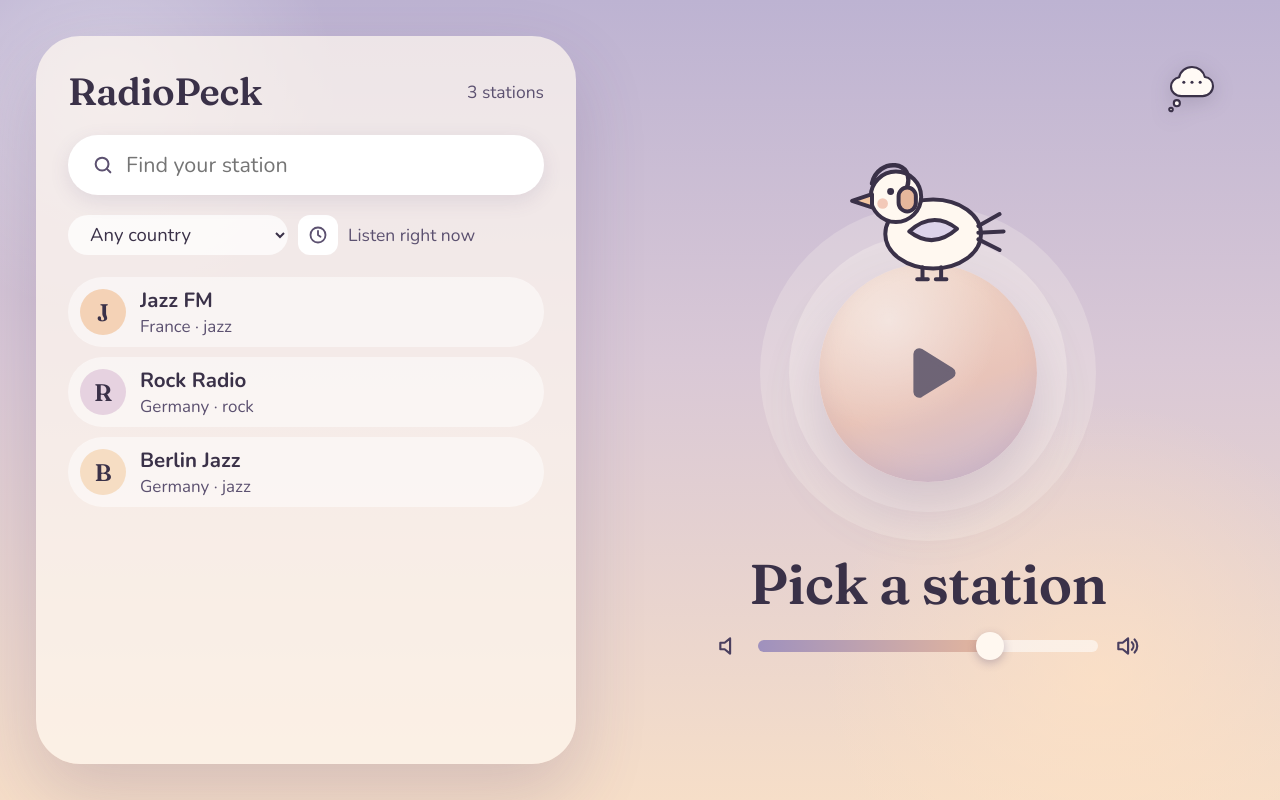
it: App › combines the name and country filters
Type "jazz" into the search field named "Search stations" at [306, 165], box [68,135,544,195]
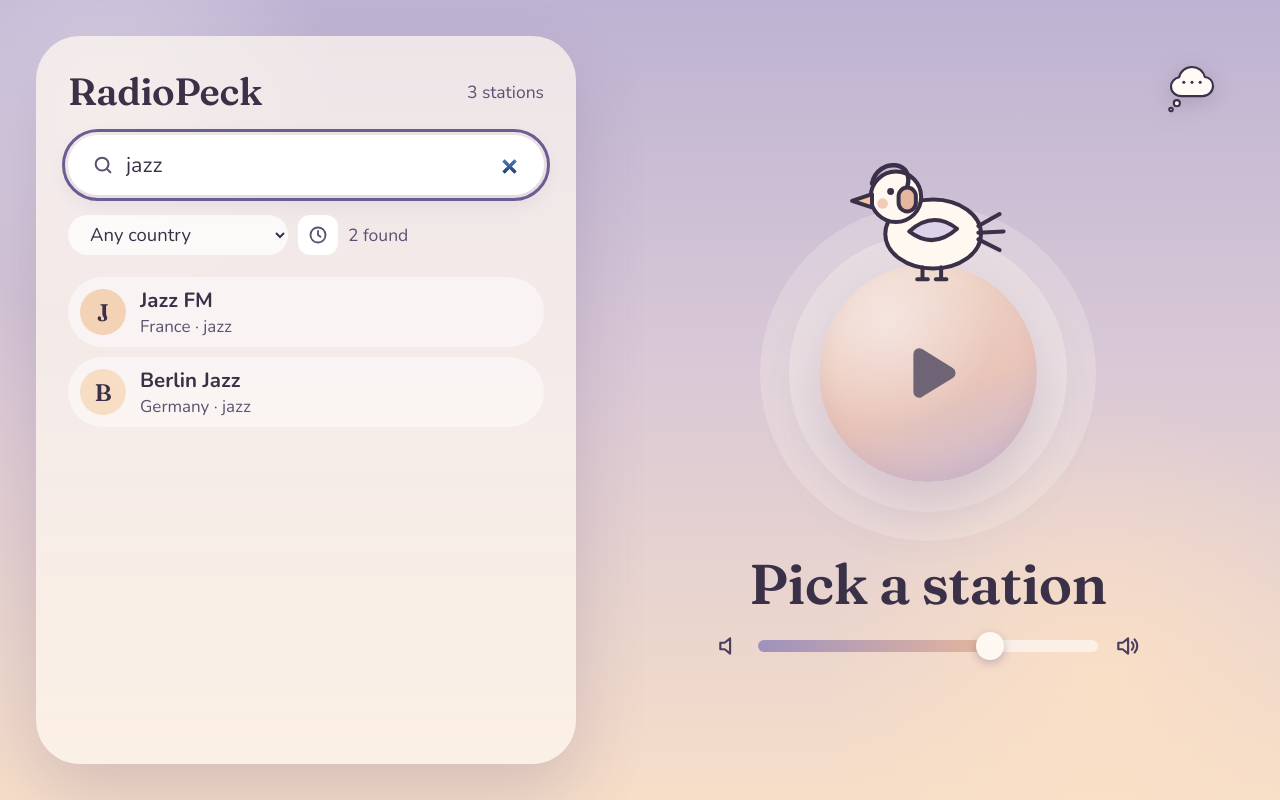
Select "Germany" in the dropdown named "Country" at [178, 235], box [68,215,288,255]
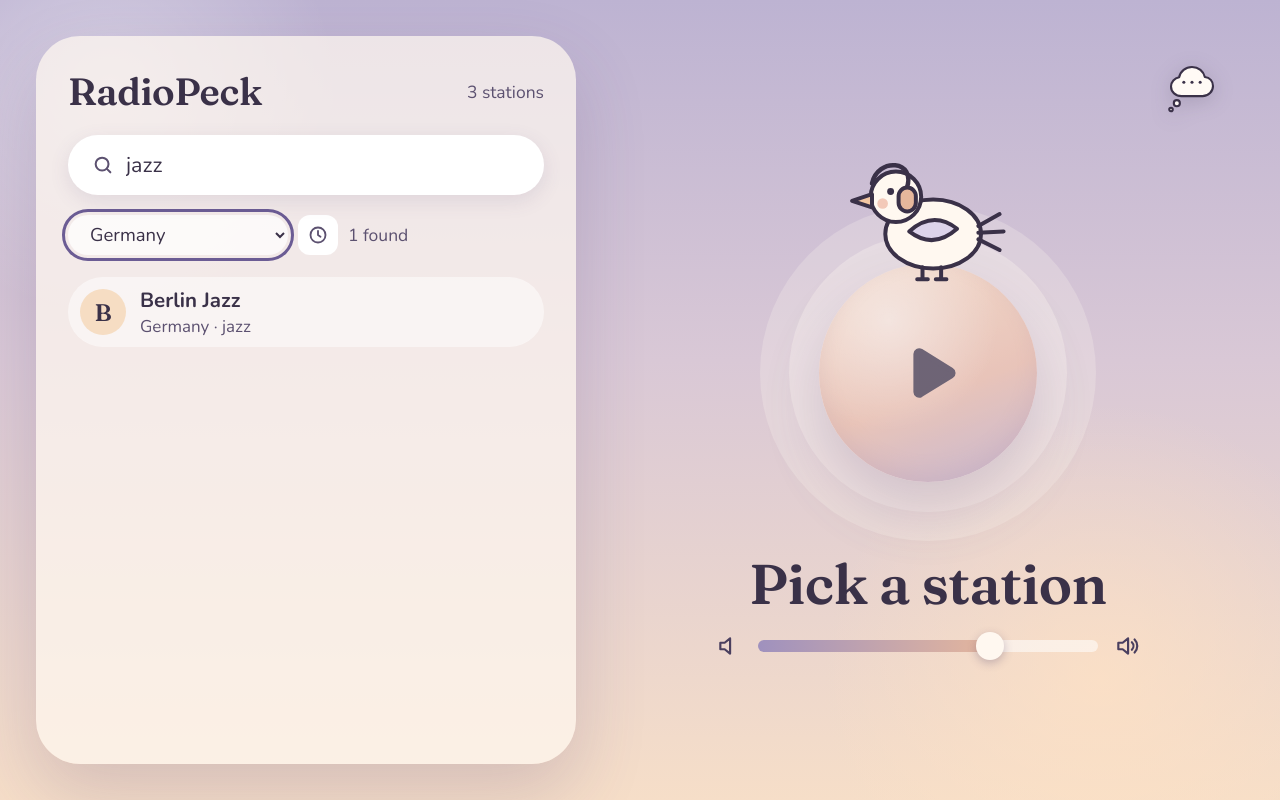
Expected: the text "Berlin Jazz" is shown, [140,286,240,314]
Result: the button "Jazz FM" is gone
Result: the text "1 found" is shown at [348,223,408,247]
